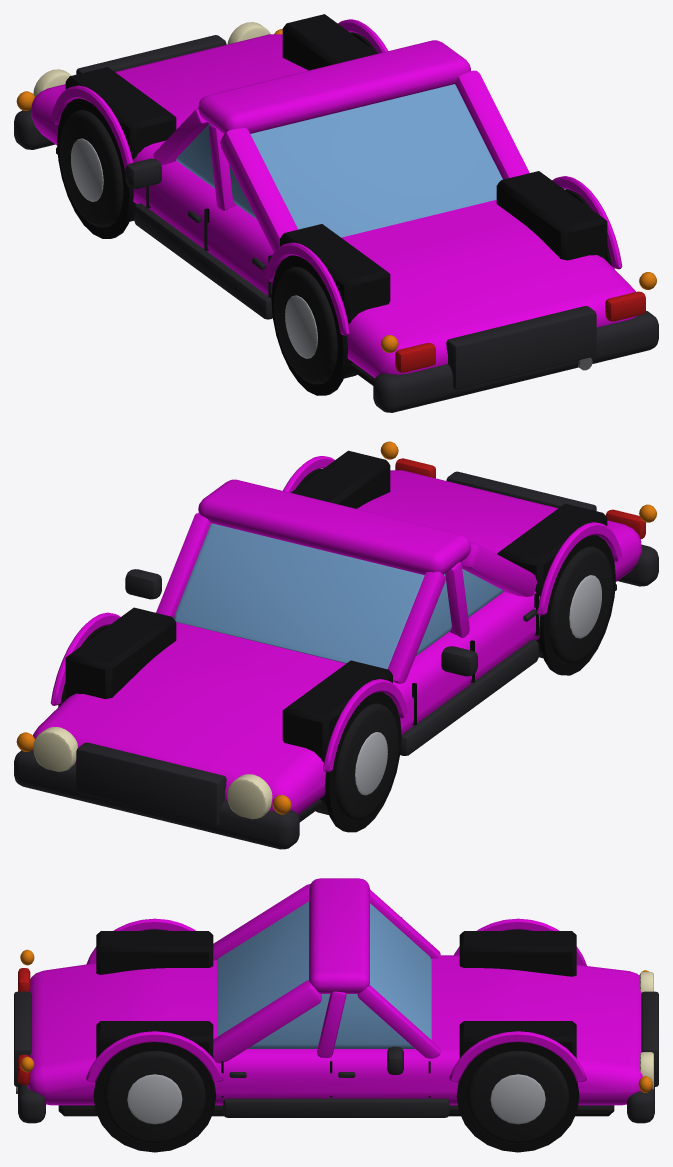
File: ZestVector.fbx
3 renders of one model, top to bottom at view 1: azimuth 30°, elevation 25°; view 2: azimuth 150°, elevation 25°; view 3: azimuth 270°, elevation 25°, orthographic. The views are drawn at different scales.
Parts seen in each view (by area): view 1: ZestVector; view 2: ZestVector; view 3: ZestVector.
Part boxes in pixels (left/top/right/bottom): ZestVector: left=14, top=14, right=658, bottom=412; ZestVector: left=14, top=441, right=658, bottom=849; ZestVector: left=14, top=878, right=658, bottom=1152.
Bounding box in the file's own units: 2.39 × 1.32 × 4.53.
